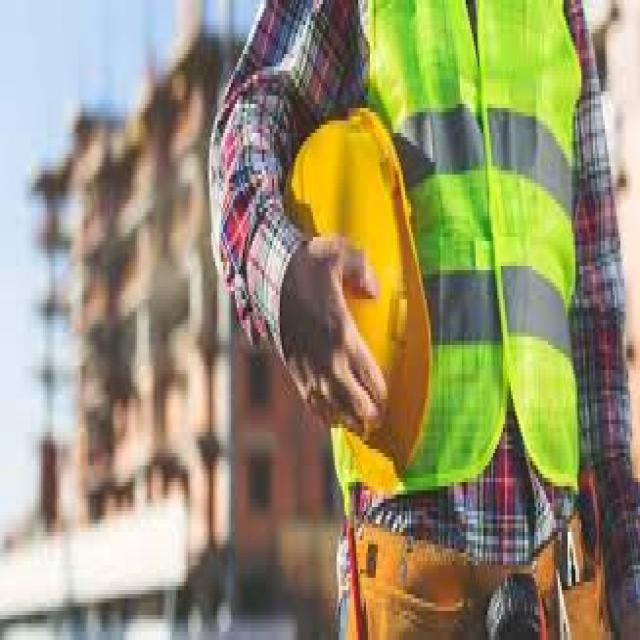reflective_jacket: (321, 8, 599, 519)
safety_helmet: (277, 87, 436, 506)
